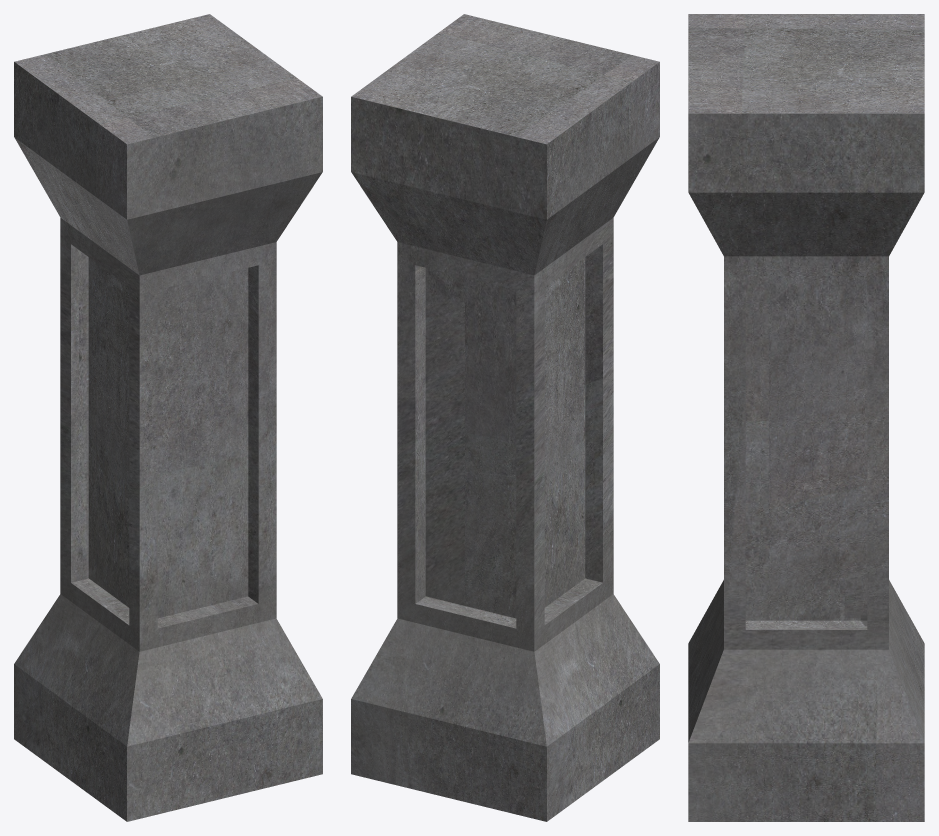
The model's file is uploads_files_2321701_pillar.fbx.
The picture shows the model from 3 angles, left to right: view 1: azimuth 30°, elevation 25°; view 2: azimuth 150°, elevation 25°; view 3: azimuth 270°, elevation 25°; orthographic projection. The views are drawn at different scales.
Visible parts, largest first — view 1: Cube; view 2: Cube; view 3: Cube.
Boxes of the visible parts, x1=… form: Cube: x1=14, y1=14, x2=322, y2=821; Cube: x1=351, y1=14, x2=659, y2=821; Cube: x1=688, y1=14, x2=924, y2=821.
Size of the model in its own units: 109 by 360 by 109.
Materials: 1 (1 with a texture image).
